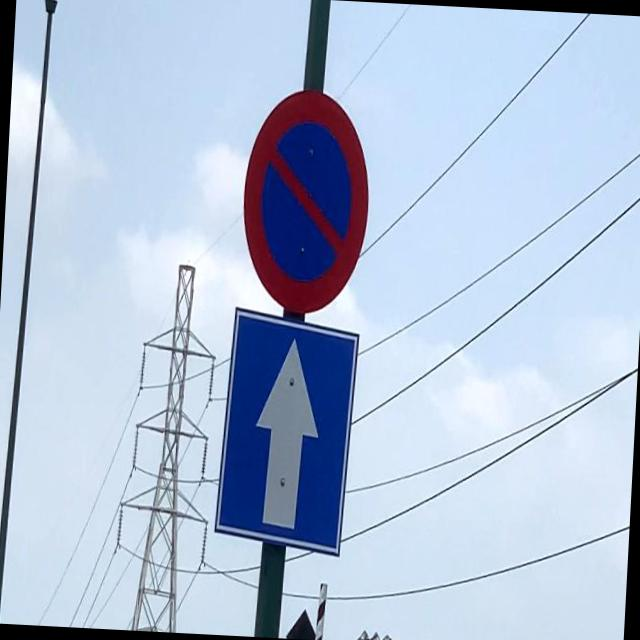I-407a: (216, 312, 356, 550)
P-131a: (240, 90, 376, 316)
